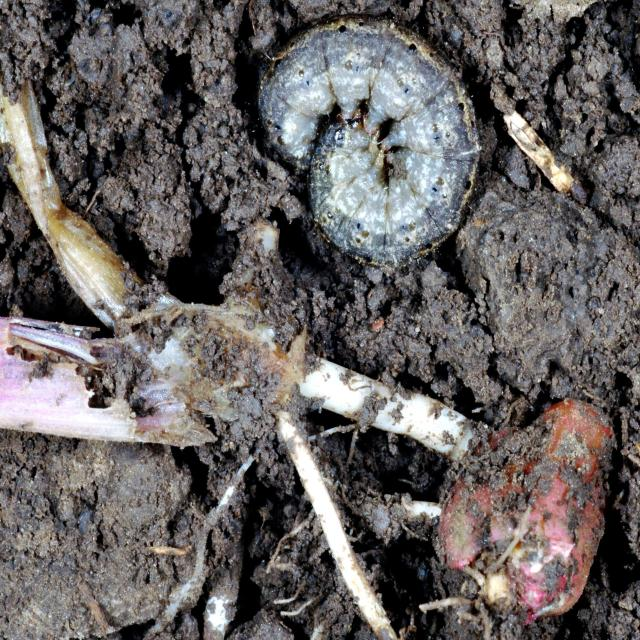black cutworm: (232, 34, 475, 256)
